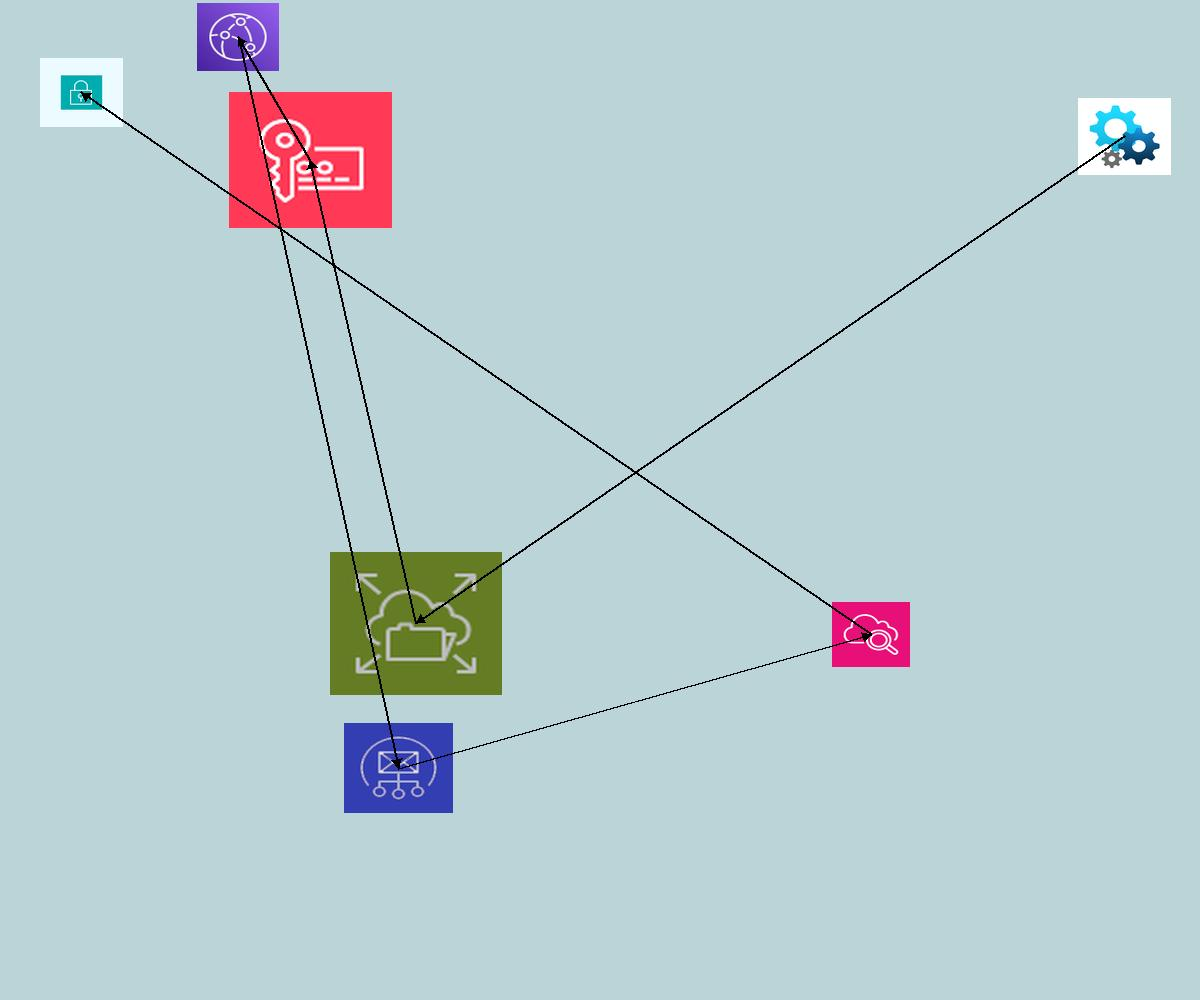AWS-CloudFront: (197, 3, 279, 71)
AWS-CloudWatch: (832, 602, 910, 667)
AWS-EFS: (330, 552, 502, 695)
AWS-Key-Management-Service: (229, 92, 392, 228)
AWS-Private-subnet: (40, 58, 123, 127)
AWS-Simple-Email-Service: (344, 723, 453, 813)
Azure_api: (1078, 98, 1171, 175)
